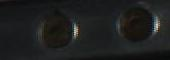joints: (31, 8, 80, 51), (115, 3, 160, 44)
